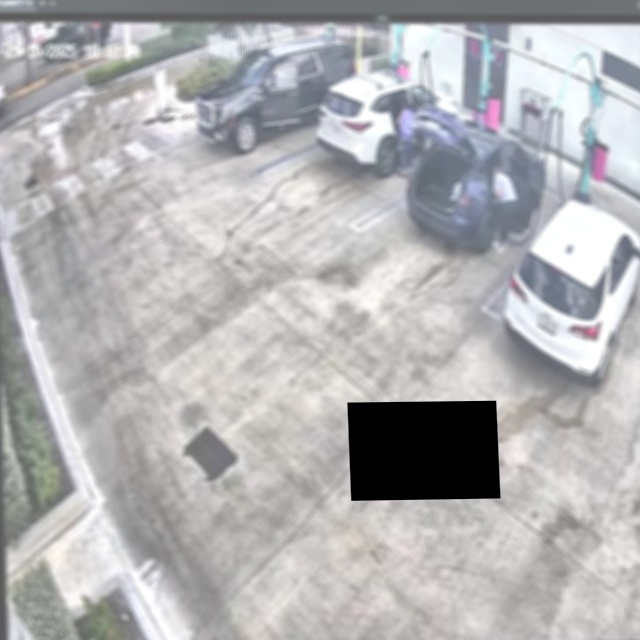Car: (402, 120, 550, 251), (315, 69, 462, 176)
